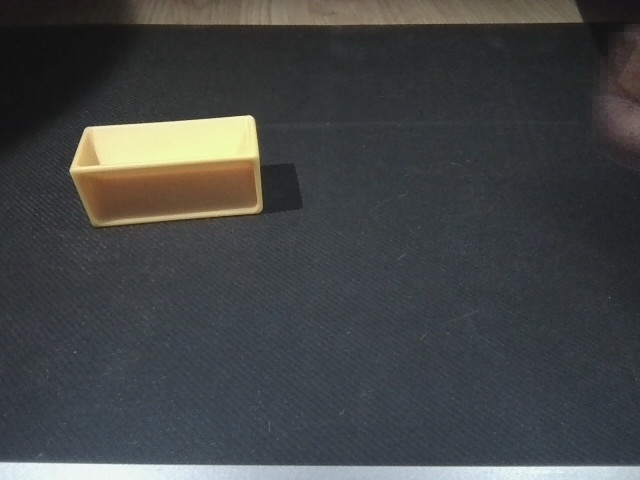YellowSample: (63, 112, 275, 230)
